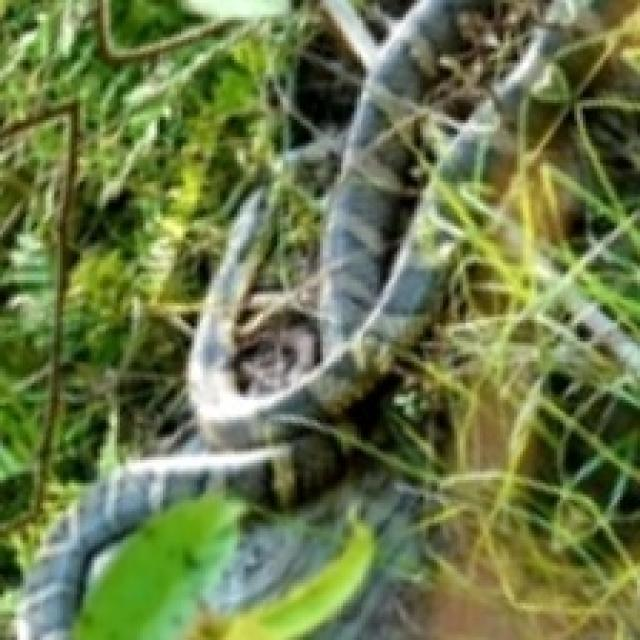king cobra: (214, 0, 637, 637), (0, 0, 411, 637)
